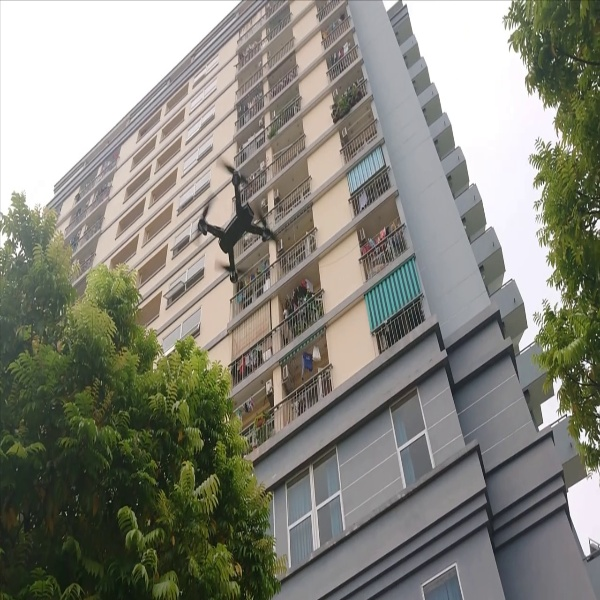drone: (195, 153, 278, 286)
